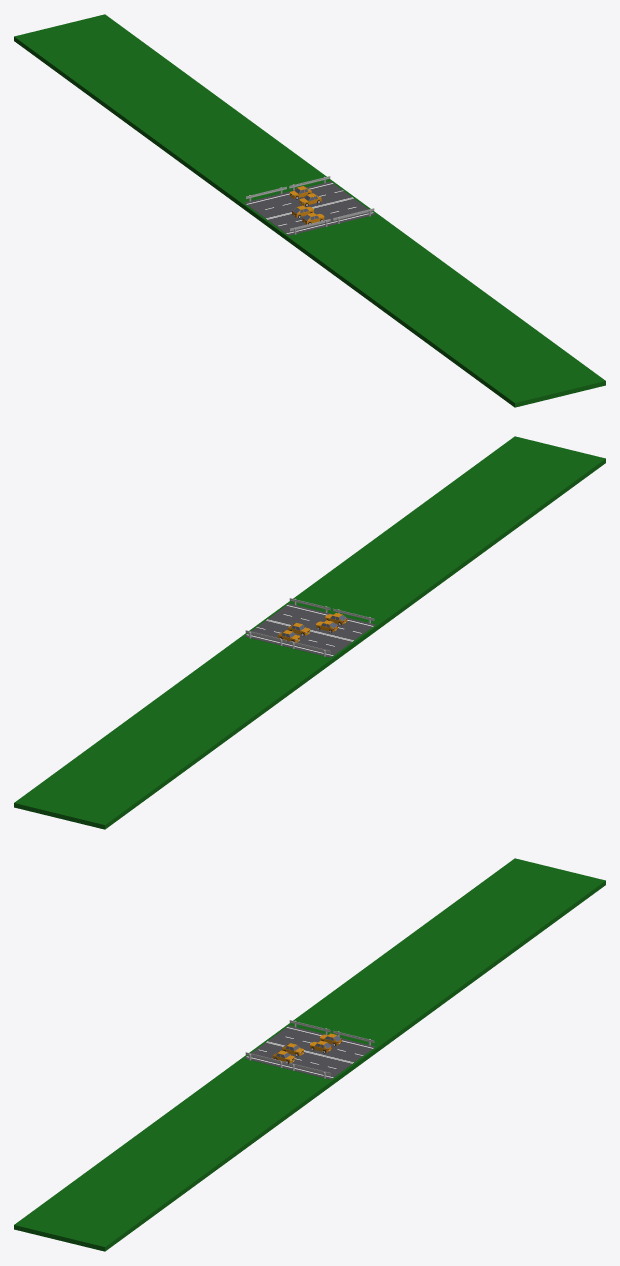
The model's file is road_piece.gltf.
The picture shows the model from 3 angles, top to bottom: view 1: azimuth 30°, elevation 25°; view 2: azimuth 150°, elevation 25°; view 3: azimuth 330°, elevation 25°; orthographic projection.
Parts seen in each view (by area): view 1: CSGBox3D23, CSGBox3D2; view 2: CSGBox3D23, CSGBox3D2; view 3: CSGBox3D23, CSGBox3D2.
Part boxes in pixels (x1,y1,x2,y2): CSGBox3D23: [14, 14, 605, 407]; CSGBox3D2: [244, 181, 375, 235]; CSGBox3D23: [14, 436, 605, 829]; CSGBox3D2: [244, 603, 375, 657]; CSGBox3D23: [14, 858, 605, 1251]; CSGBox3D2: [244, 1025, 375, 1079].
Bounding box in the file's own units: 21 × 2.74 × 200.
